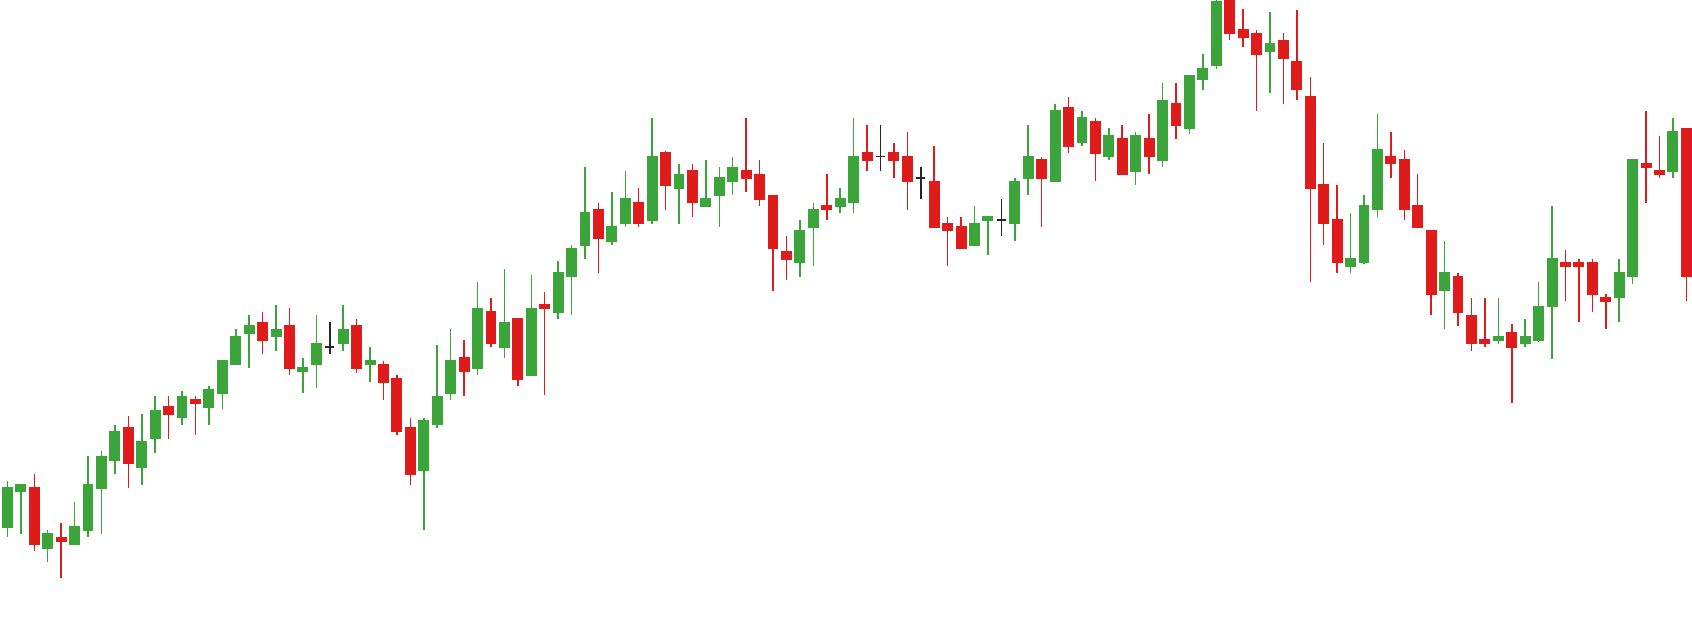buy: (120, 362, 432, 548)
